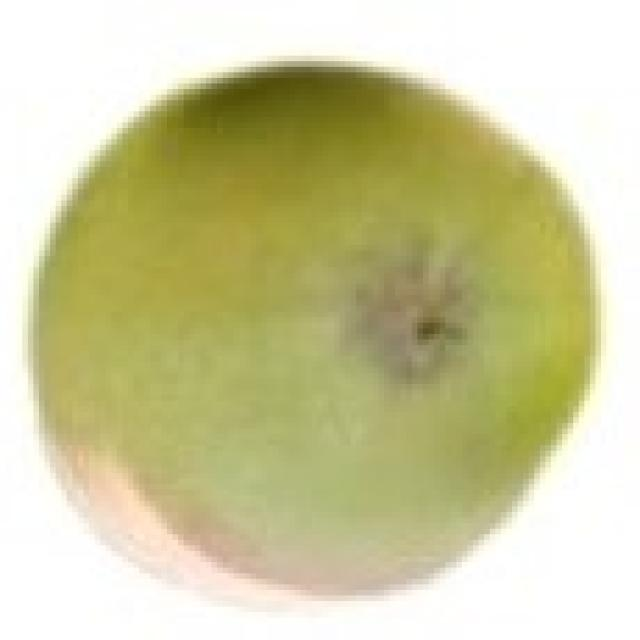50-_ripeness: (25, 59, 606, 595)
